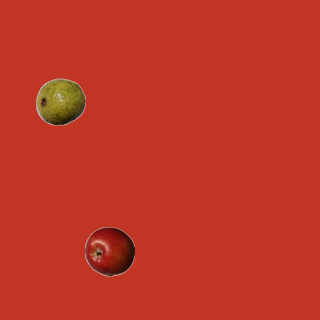Apple Braeburn: (84, 226, 134, 276)
Guava: (35, 76, 85, 126)
